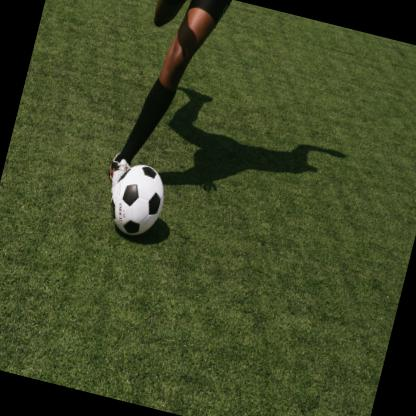ball: (105, 158, 172, 243)
